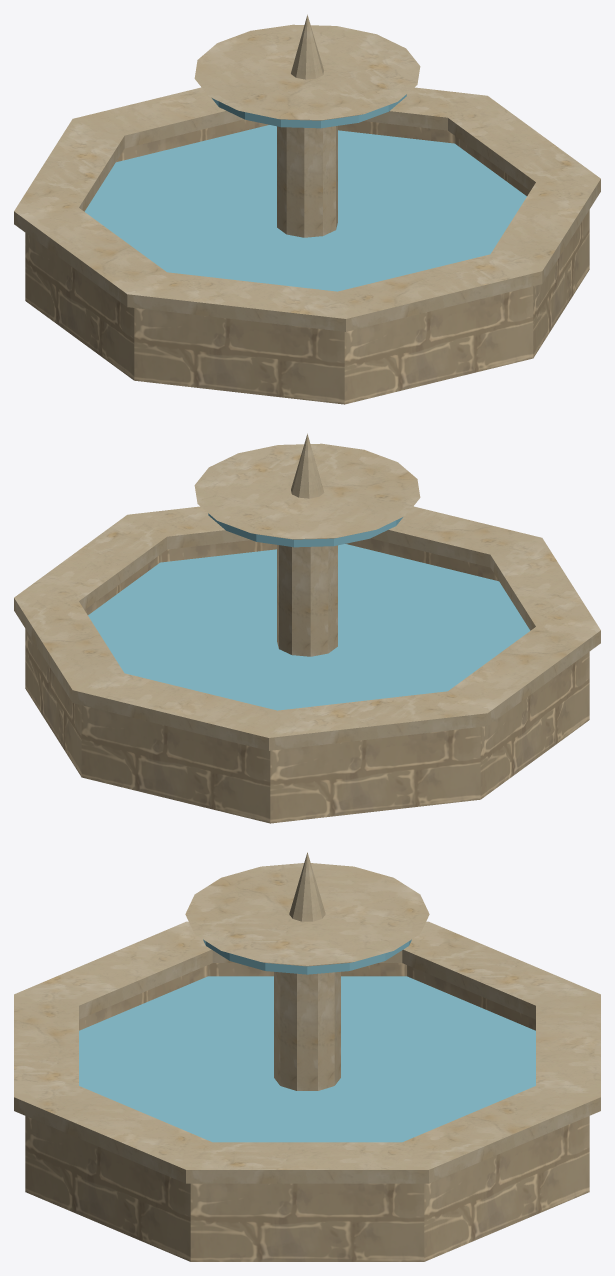
File: fountain_small.gltf
The picture shows the model from 3 angles, top to bottom: view 1: azimuth 30°, elevation 25°; view 2: azimuth 150°, elevation 25°; view 3: azimuth 270°, elevation 25°; orthographic projection. The views are drawn at different scales.
Parts seen in each view (by area): view 1: BasinRim, Water, BasinWall, Bowl, Column, Water.001, Finial; view 2: BasinRim, Water, BasinWall, Bowl, Column, Water.001, Finial; view 3: BasinRim, Water, BasinWall, Bowl, Column, Water.001, Finial.
Part boxes in pixels (x1,y1,x2,y2): BasinRim: (14,87,600,331); Water: (84,125,526,291); BasinWall: (25,119,589,404); Bowl: (194,24,420,120); Column: (277,126,337,237); Water.001: (212,94,406,128); Finial: (291,14,323,79); BasinRim: (14,506,600,750); Water: (88,544,530,710); BasinWall: (25,538,589,823); Bowl: (194,443,420,539); Column: (277,545,337,656); Water.001: (208,513,402,547); Finial: (291,433,323,498); BasinRim: (14,921,600,1183); Water: (79,976,535,1142); BasinWall: (25,963,589,1261); Bowl: (185,863,429,966); Column: (274,972,340,1090); Water.001: (203,939,411,974); Finial: (289,852,325,921).
Size of what is drawn, in the model's own units: 3.84 by 2.1 by 3.84.
3 materials, 2 textured.
